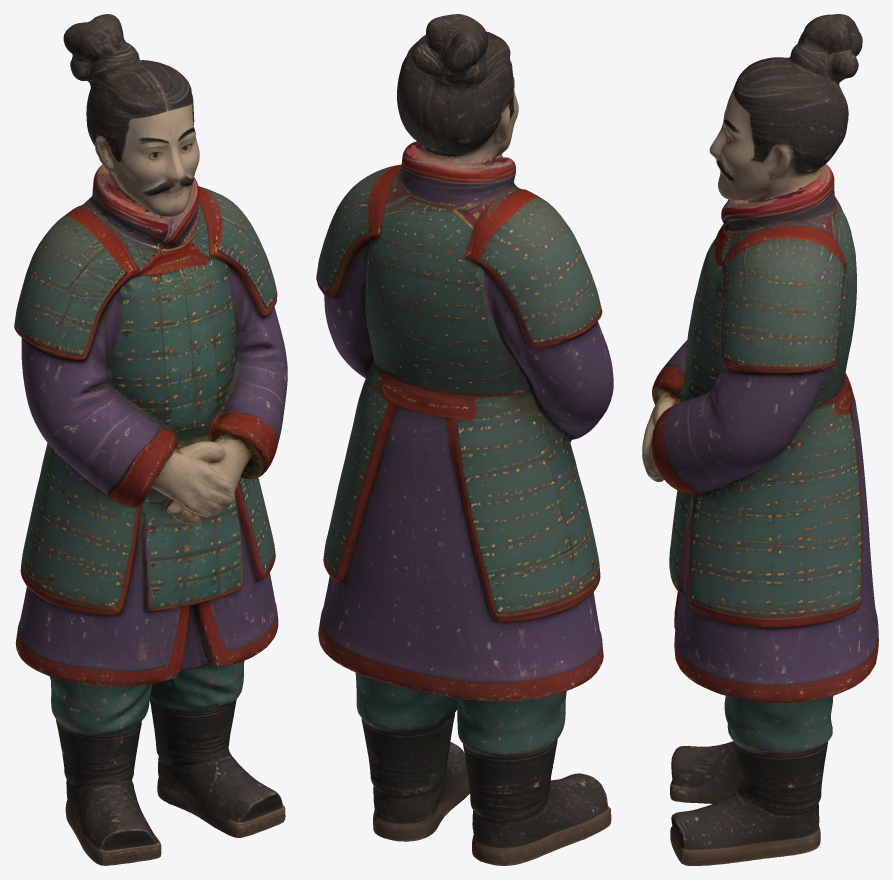
The model's file is qin-proto.glb.
3 renders of one model, left to right at view 1: azimuth 30°, elevation 25°; view 2: azimuth 150°, elevation 25°; view 3: azimuth 270°, elevation 25°, orthographic. The views are drawn at different scales.
Visible parts, largest first — view 1: textured_mesh.obj; view 2: textured_mesh.obj; view 3: textured_mesh.obj.
Part boxes in pixels (<box>): textured_mesh.obj: <box>14,14,287,865</box>; textured_mesh.obj: <box>316,14,613,865</box>; textured_mesh.obj: <box>642,14,878,865</box>.
Size of the model in its own units: 0.6533 by 1.99 by 0.5383.
Materials: 1 (1 with a texture image).
